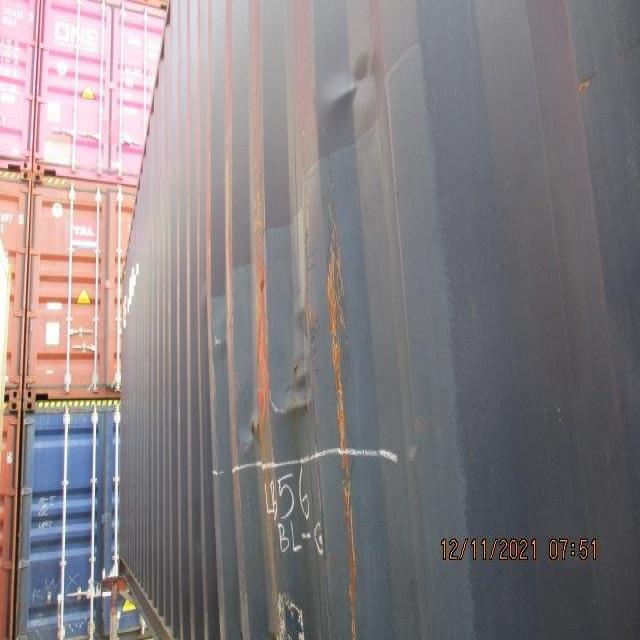Dent: (197, 285, 384, 528)
